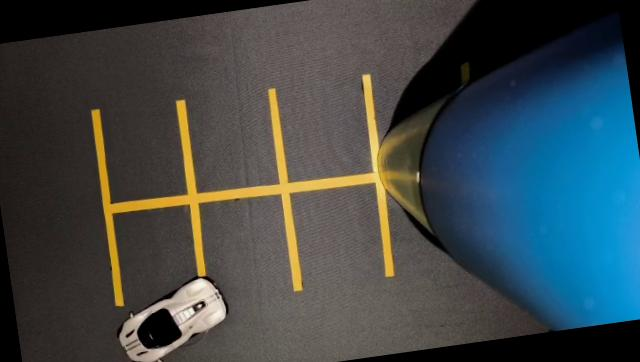toy_car: (100, 235, 266, 362)
